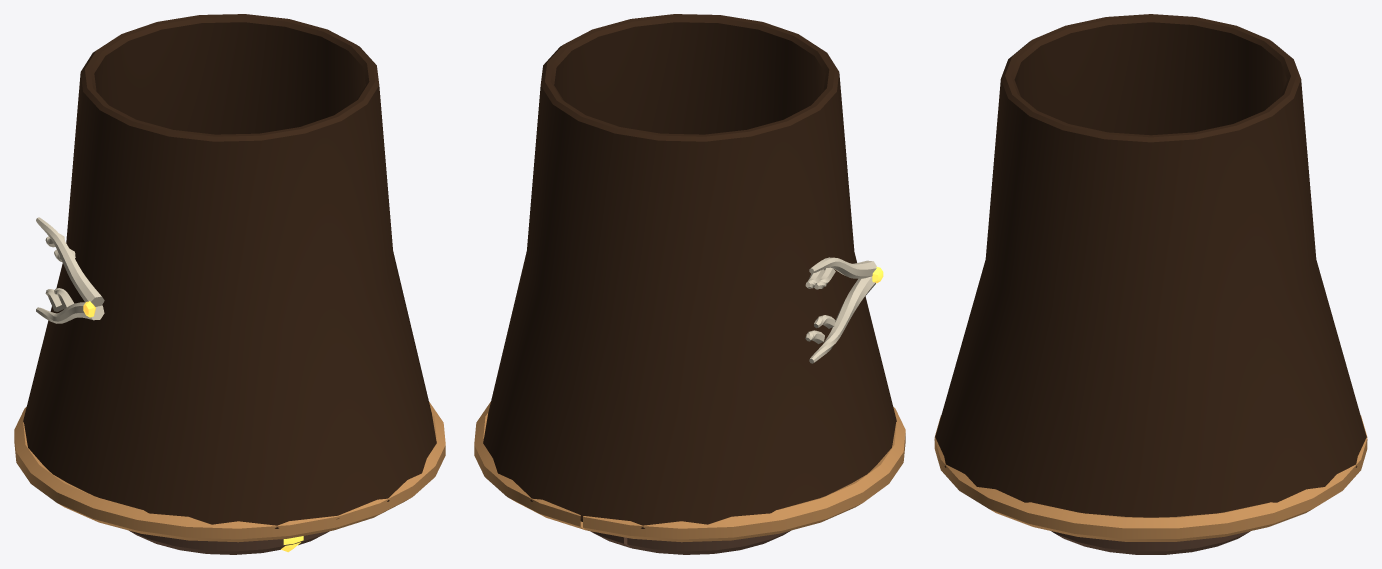
File: asc_primeval_shaman_gloves_R.glb
3 renders of one model, left to right at view 1: azimuth 30°, elevation 25°; view 2: azimuth 150°, elevation 25°; view 3: azimuth 270°, elevation 25°, orthographic.
Parts seen in each view (by area): view 1: asc_primeval_shaman_gloves; view 2: asc_primeval_shaman_gloves; view 3: asc_primeval_shaman_gloves.
Boxes of the visible parts, x1=… form: asc_primeval_shaman_gloves: x1=14, y1=14, x2=445, y2=554; asc_primeval_shaman_gloves: x1=474, y1=14, x2=905, y2=554; asc_primeval_shaman_gloves: x1=934, y1=14, x2=1367, y2=554.
Size of the model in its own units: 0.221 by 0.2464 by 0.2227.
